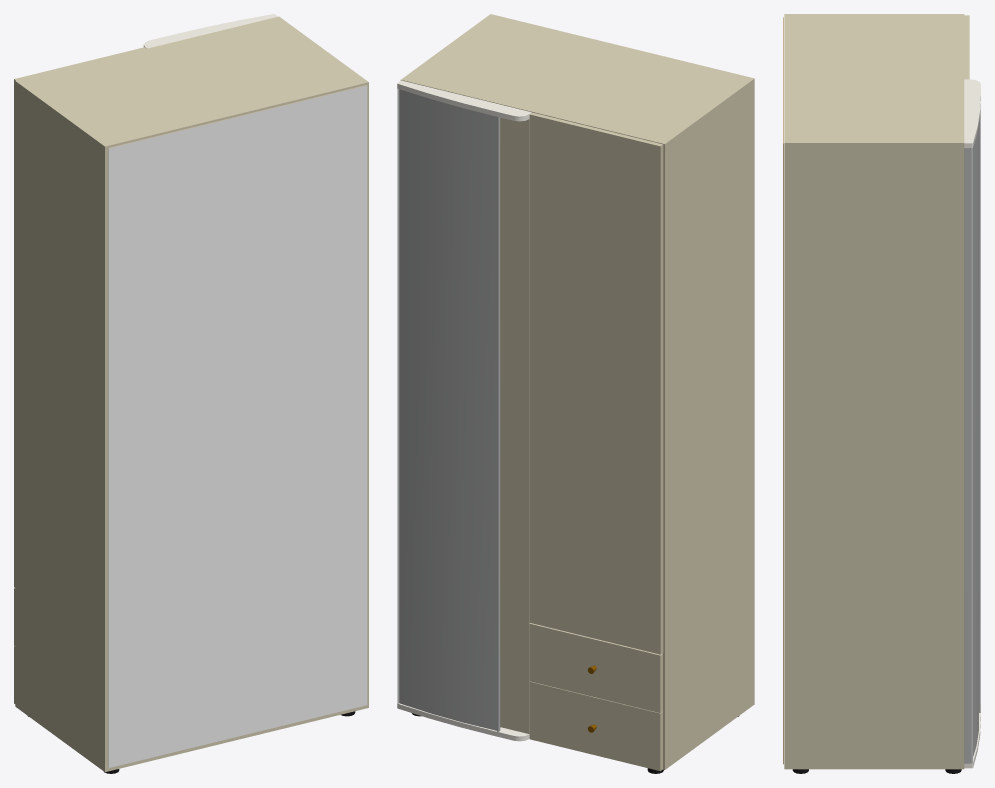
The model's file is Locker 2.fbx.
3 views of the same model, side by side, from view 1: azimuth 30°, elevation 25°; view 2: azimuth 150°, elevation 25°; view 3: azimuth 270°, elevation 25° (orthographic).
Parts seen in each view (by area): view 1: 15, Rectangle7, Rectangle6, Rectangle3, DoorRight, Rectangle5, MirrorMountTOp, 15.001; view 2: DoorRight, Mirror, Rectangle7, Rectangle6, DoorLeft, Rectangl20, Rectangl15, MirrorMountTOp, MirrorMountBottom; view 3: Rectangle5, Rectangle6, Mirror, Rectangle3, MirrorMountTOp, 15.001, DoorRight.
Boxes of the visible parts, x1,y1,x2,y2 form: 15: (108,85,367,768); Rectangle7: (15,86,107,767); Rectangle6: (15,16,368,151); Rectangle3: (15,702,368,772); DoorRight: (14,47,146,587); Rectangle5: (367,87,368,703); MirrorMountTOp: (143,14,277,48); 15.001: (108,85,366,767); DoorRight: (529,112,663,654); Mirror: (397,89,500,731); Rectangle7: (662,83,754,765); Rectangle6: (400,14,754,148); DoorLeft: (500,117,529,733); Rectangl20: (529,623,662,713); Rectangl15: (529,681,662,771); MirrorMountTOp: (397,80,531,121); MirrorMountBottom: (397,703,529,741); Rectangle5: (784,147,964,764); Rectangle6: (784,14,964,147); Mirror: (964,108,980,763); Rectangle3: (784,764,964,769); MirrorMountTOp: (964,79,980,147); 15.001: (783,17,783,764); DoorRight: (964,15,969,79).
Size of the model in its own units: 90.39 by 207 by 58.6.
